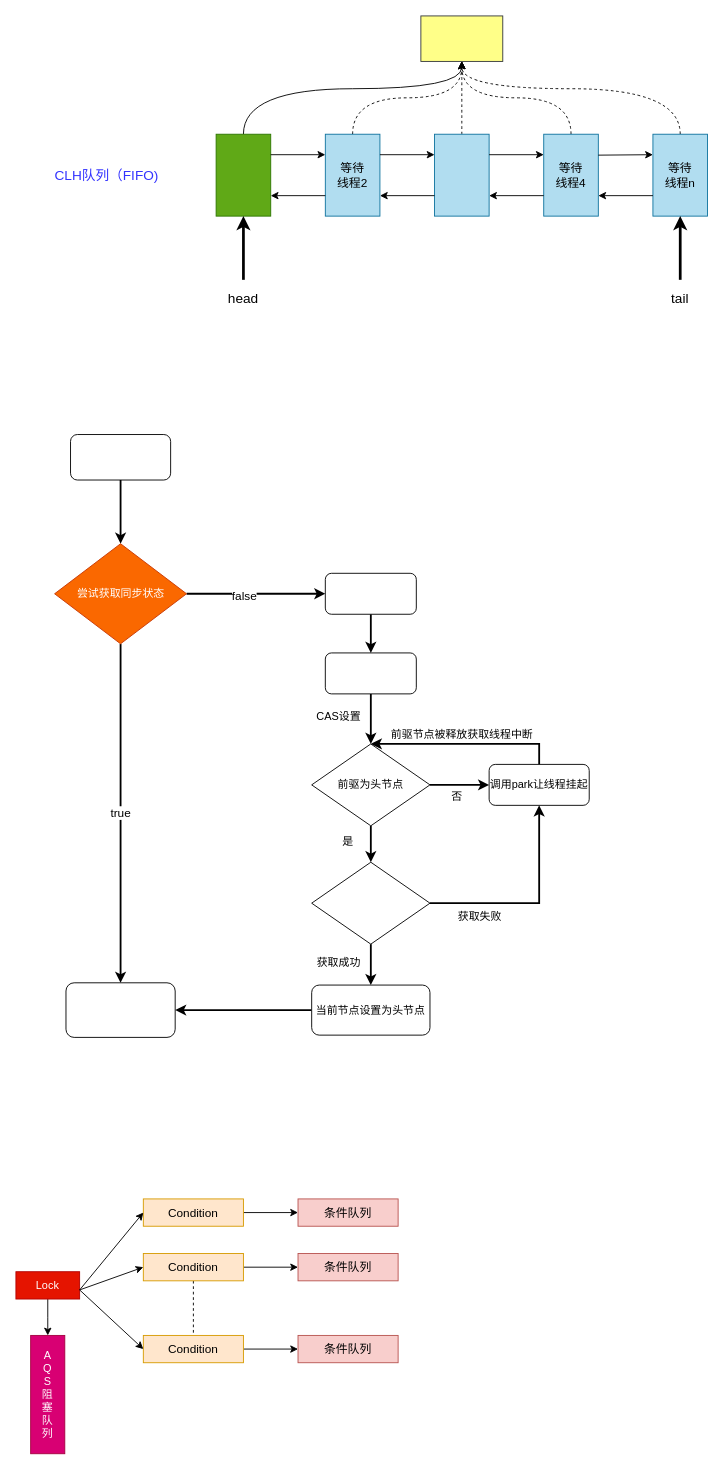
Image size: 723x1470. Some labels were removed from this diagram. The box of each missing label's shape, as (x1, y1, x2, y2) in pixels:
acquire: (70, 434, 171, 480)
加入等待队列尾部: (324, 652, 416, 694)
占用 线程1: (215, 133, 271, 216)
生成节点: (324, 572, 416, 614)
等待 线程3: (434, 133, 489, 216)
获取同步状态: (311, 861, 430, 944)
资源(state): (420, 15, 503, 61)
退出，selfinterrupt判断是否需要中断: (65, 982, 175, 1037)
